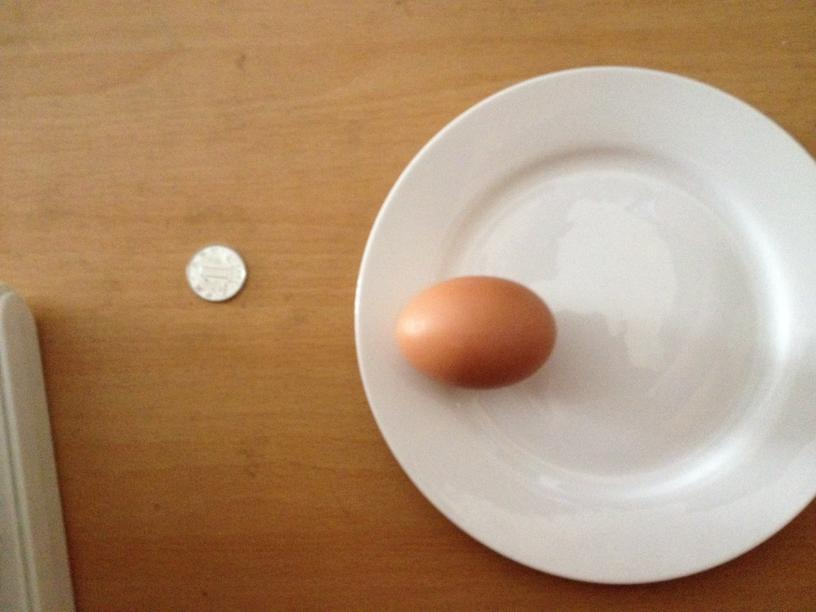coin: (184, 245, 247, 303)
egg: (393, 275, 556, 390)
